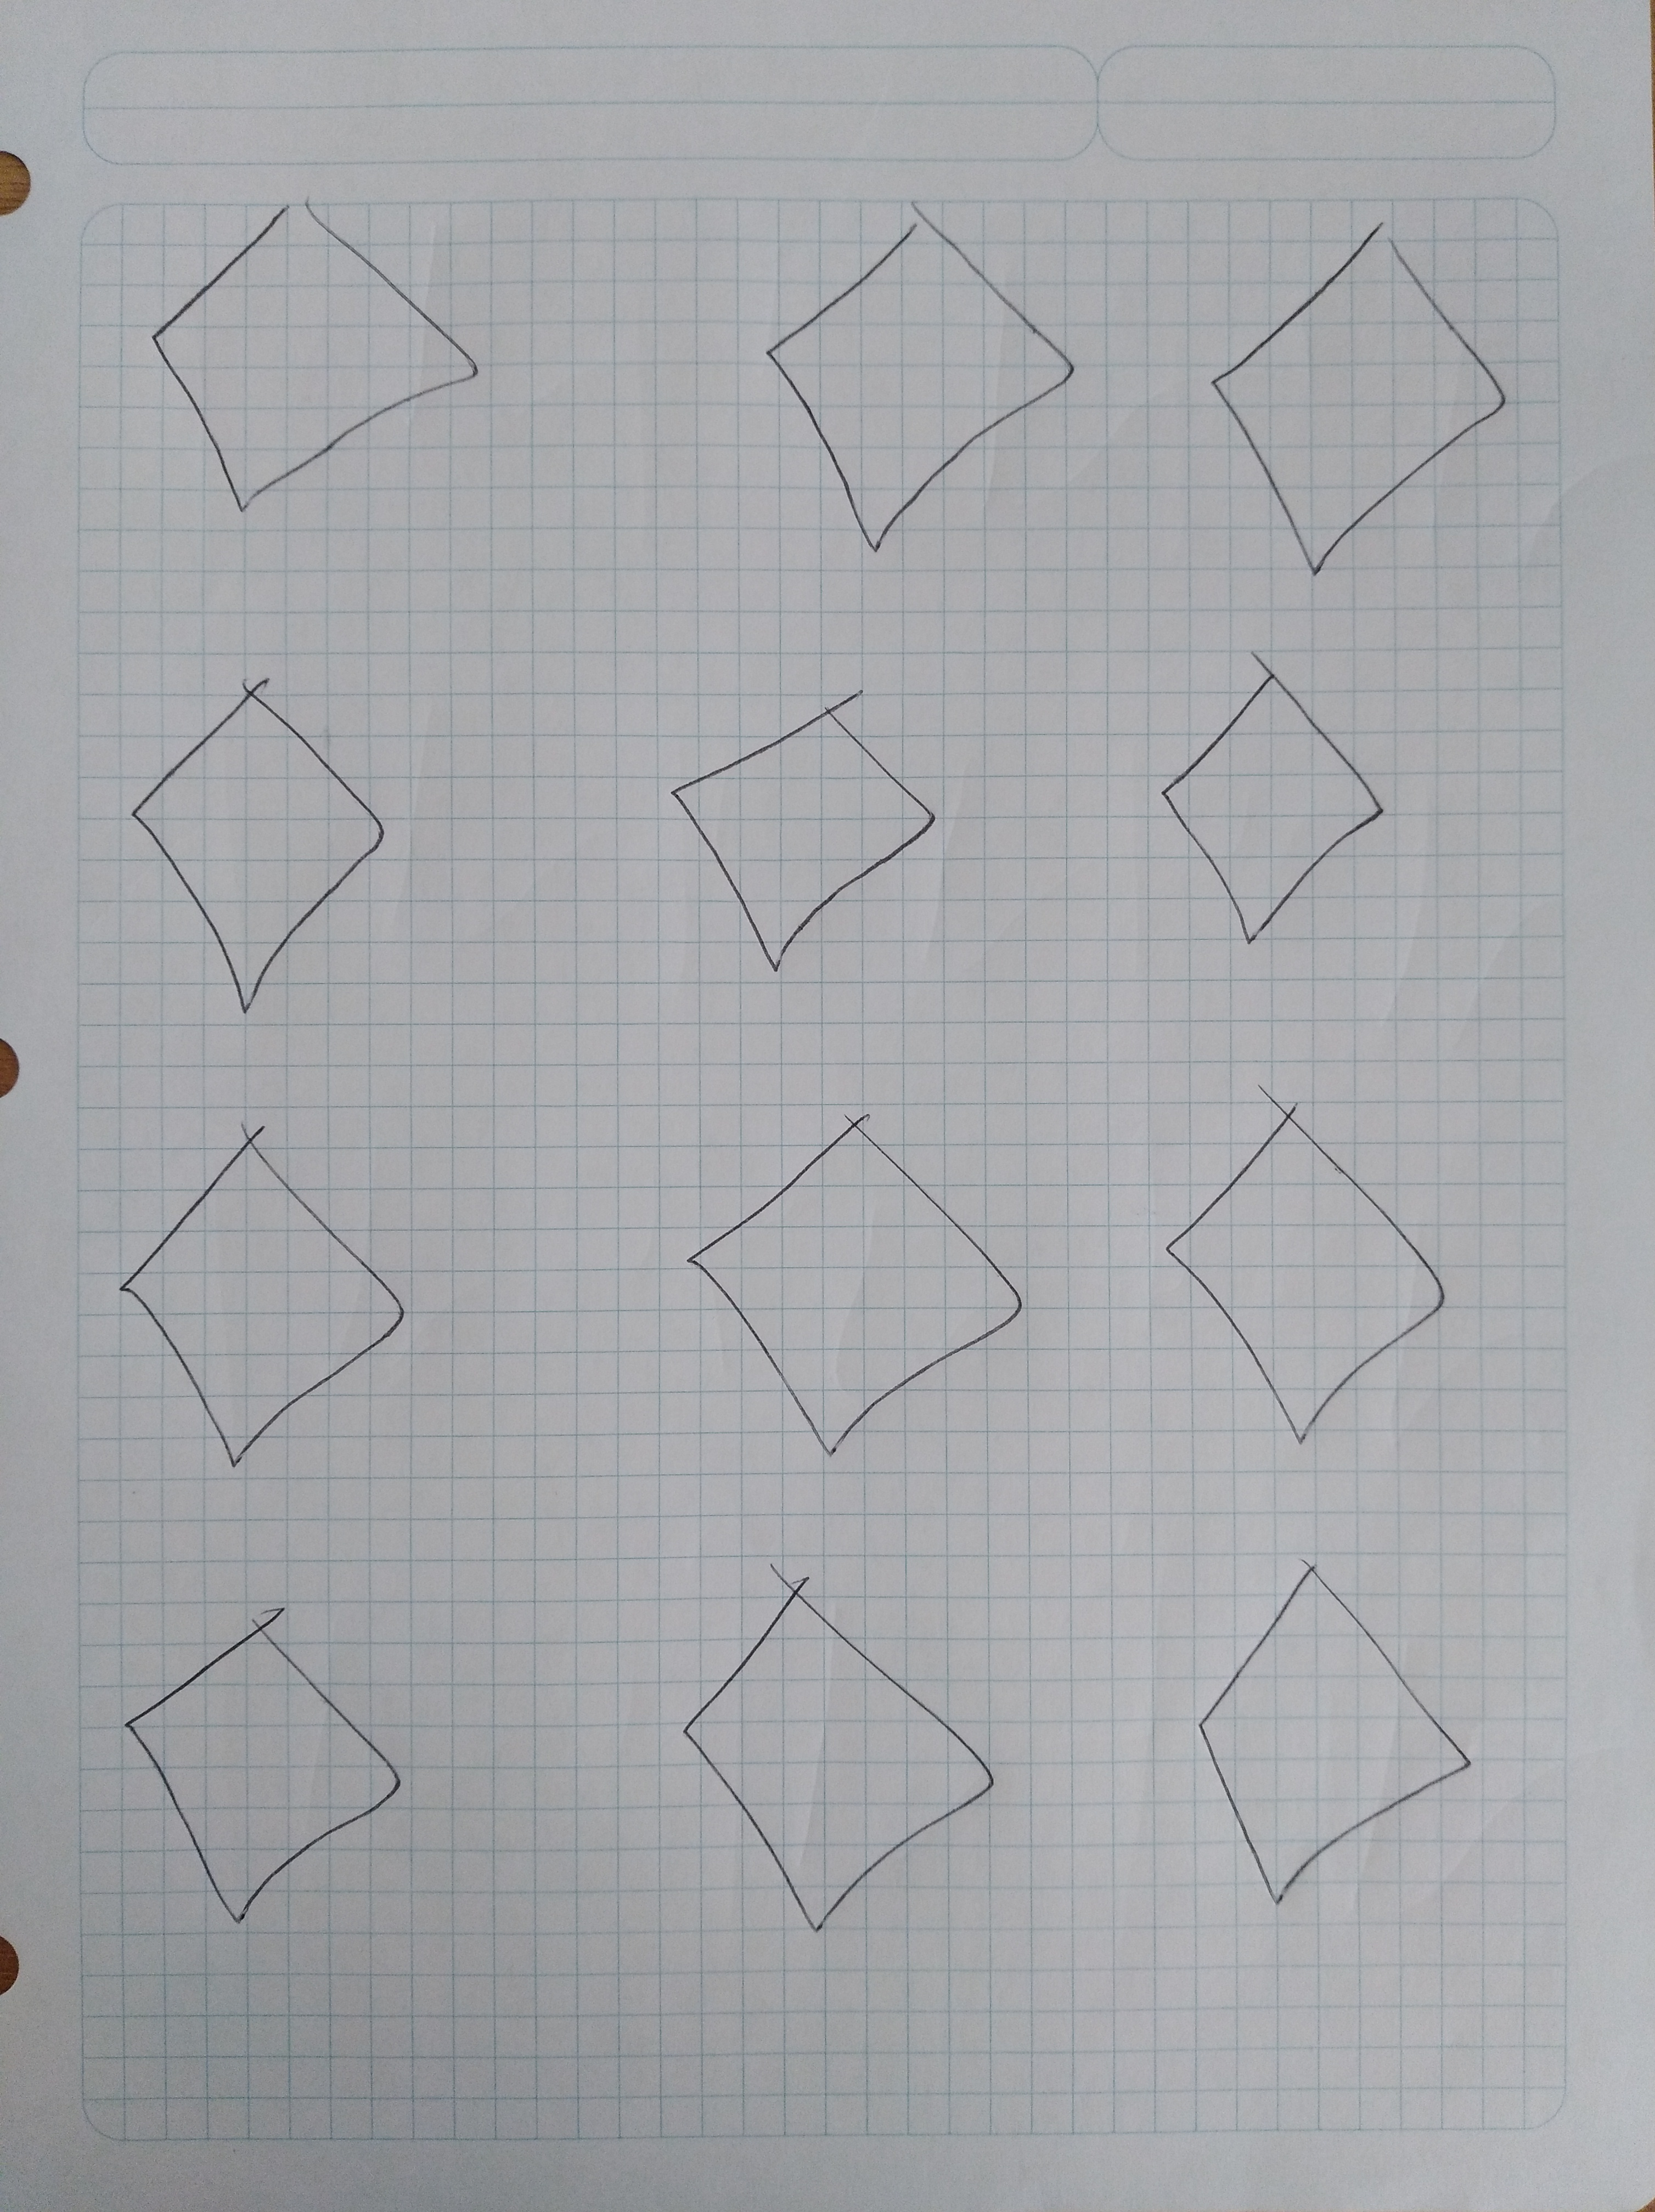decision: (622, 1543, 1052, 1960), (709, 172, 1088, 568), (662, 1091, 1048, 1472), (113, 174, 511, 535), (80, 1578, 461, 1948), (1156, 1536, 1502, 1934), (1191, 184, 1521, 591), (82, 1109, 424, 1489), (1144, 1067, 1460, 1477), (99, 662, 431, 1037), (647, 660, 953, 1001), (1121, 636, 1415, 975)
